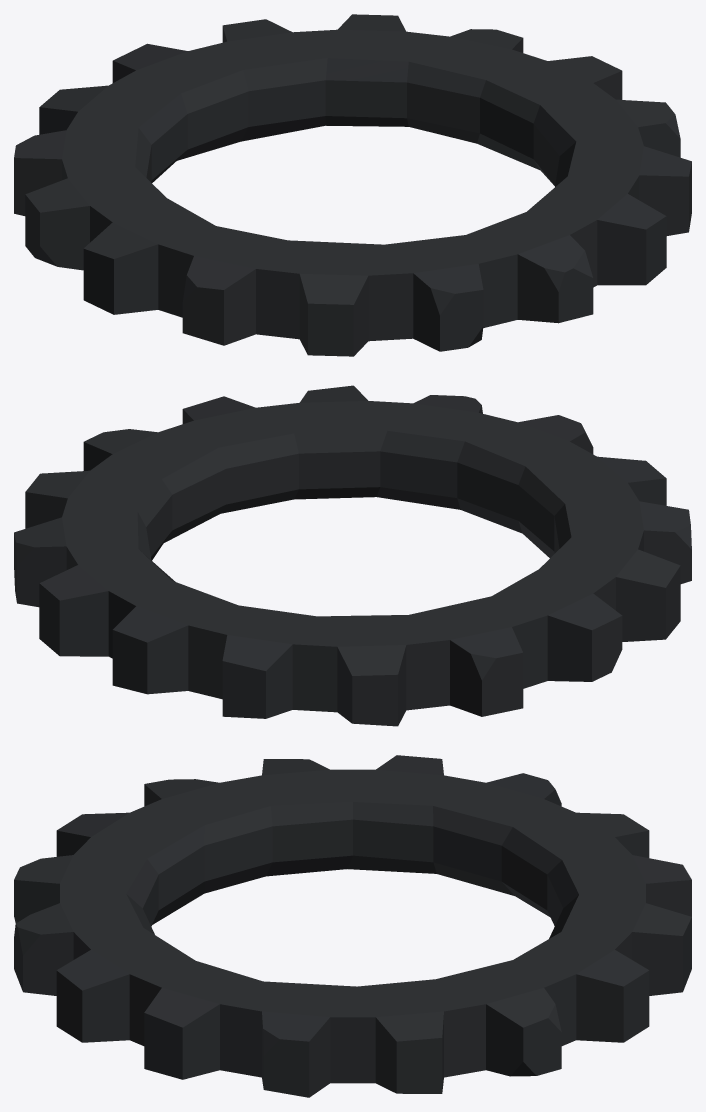
The model's file is forge_cog.gltf.
3 views of the same model, one above another, from view 1: azimuth 30°, elevation 25°; view 2: azimuth 150°, elevation 25°; view 3: azimuth 270°, elevation 25° (orthographic).
Visible parts, largest first — view 1: forge_cog; view 2: forge_cog; view 3: forge_cog.
Part boxes in pixels (box(x1,y1,x2,y2)): forge_cog: box(14, 14, 691, 356); forge_cog: box(14, 385, 691, 726); forge_cog: box(14, 755, 691, 1097).
Size of the model in its own units: 1.83 by 0.1968 by 1.83.
Materials: 1 (1 with a texture image).
